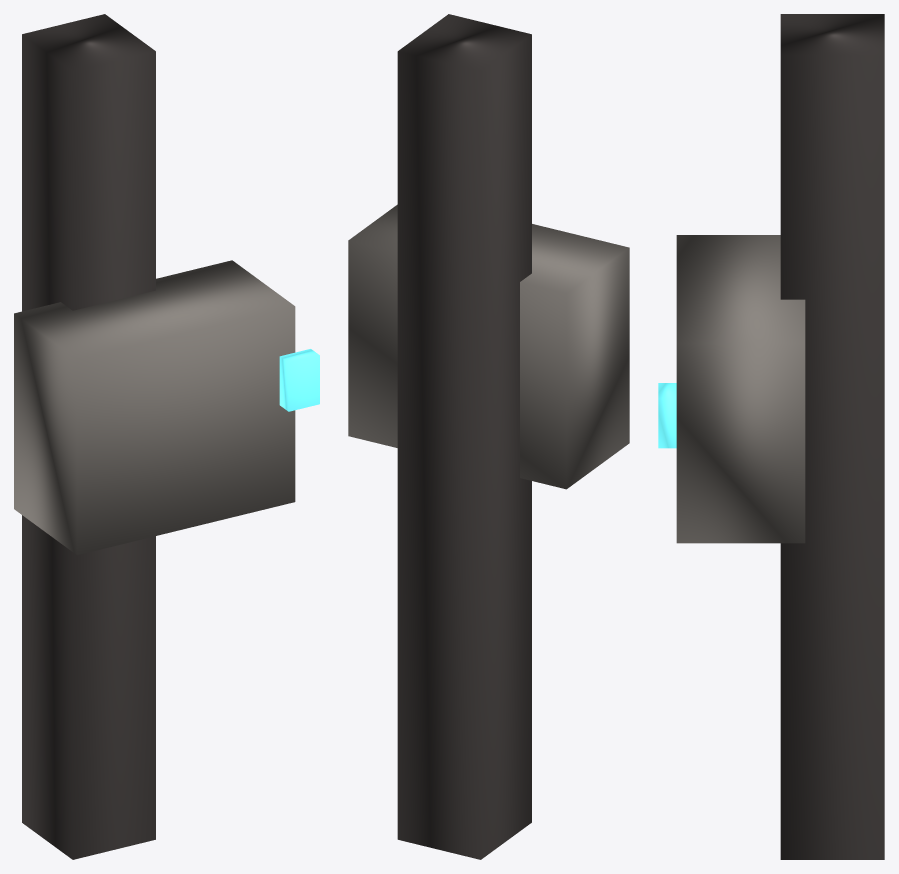
The model's file is damaged-vessel-service-bundle-lod2.glb.
3 renders of one model, left to right at view 1: azimuth 30°, elevation 25°; view 2: azimuth 150°, elevation 25°; view 3: azimuth 270°, elevation 25°, orthographic. The views are drawn at different scales.
Parts seen in each view (by area): view 1: damaged-vessel-service-bundle-trunk, damaged-vessel-service-bundle-junction, damaged-vessel-service-bundle-status; view 2: damaged-vessel-service-bundle-trunk, damaged-vessel-service-bundle-junction; view 3: damaged-vessel-service-bundle-trunk, damaged-vessel-service-bundle-junction, damaged-vessel-service-bundle-status.
Boxes of the visible parts, x1,y1,x2,y2 form: damaged-vessel-service-bundle-trunk: [22, 14, 155, 859]; damaged-vessel-service-bundle-junction: [14, 260, 295, 555]; damaged-vessel-service-bundle-status: [279, 349, 319, 411]; damaged-vessel-service-bundle-trunk: [397, 14, 531, 859]; damaged-vessel-service-bundle-junction: [348, 204, 629, 489]; damaged-vessel-service-bundle-trunk: [780, 14, 884, 859]; damaged-vessel-service-bundle-junction: [676, 235, 805, 543]; damaged-vessel-service-bundle-status: [658, 383, 676, 448].
Size of the model in its own units: 0.9 by 2.9 by 0.74.
